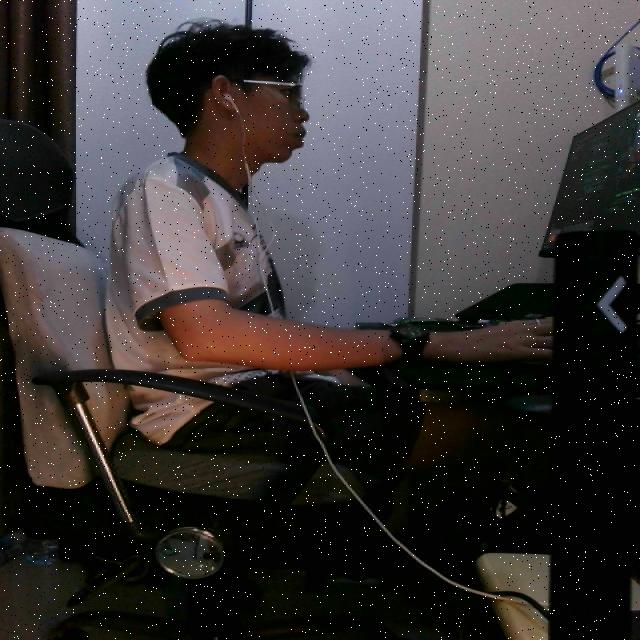Good: (98, 16, 434, 490)
